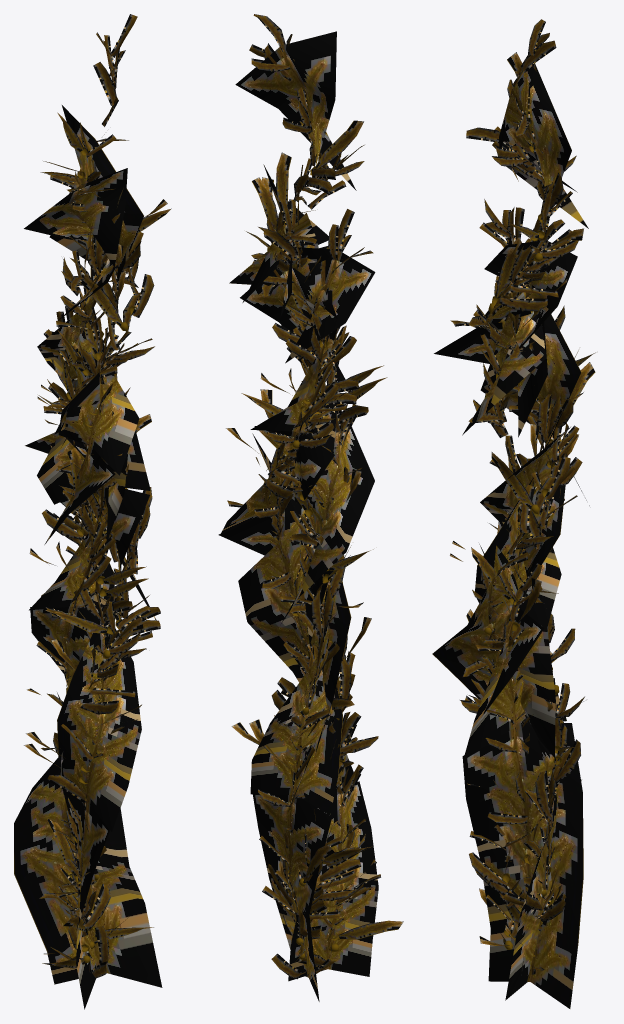
File: GiantKelp_02-transformed.glb
3 views of the same model, side by side, from view 1: azimuth 30°, elevation 25°; view 2: azimuth 150°, elevation 25°; view 3: azimuth 270°, elevation 25° (orthographic). The views are drawn at different scales.
Visible parts, largest first — view 1: GiantKelp_02; view 2: GiantKelp_02; view 3: GiantKelp_02.
Part boxes in pixels (x1,y1,x2,y2): GiantKelp_02: (14, 14, 171, 1009); GiantKelp_02: (218, 14, 403, 1001); GiantKelp_02: (432, 19, 595, 1008).
Size of the model in its own units: 1.82 by 10.92 by 1.77.
Materials: 1 (1 with a texture image).
